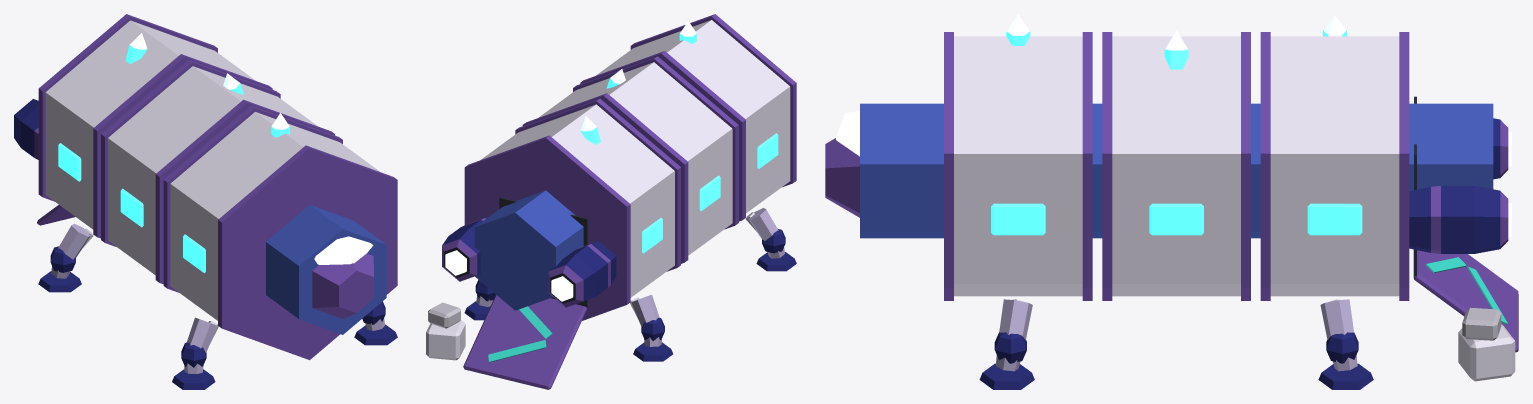
Rendered from pri-f_offen.glb.
3 renders of one model, left to right at view 1: azimuth 30°, elevation 25°; view 2: azimuth 150°, elevation 25°; view 3: azimuth 270°, elevation 25°, orthographic. The views are drawn at different scales.
Visible parts, largest first — view 1: frachtsegment_1, frachtsegment_2, frachtsegment_3, rückgrat, cockpit, landebein_2, landebein_4, triebwerk_r, landebein_1, kristallakzente, rampe; view 2: frachtsegment_3, frachtsegment_2, frachtsegment_1, rückgrat, rampe, triebwerk_r, ladung, triebwerk_l, landebein_4, landebein_2, kristallakzente, landebein_3 (+1 smaller); view 3: frachtsegment_3, frachtsegment_1, frachtsegment_2, rückgrat, triebwerk_l, rampe, ladung, landebein_1, landebein_3, cockpit, kristallakzente, triebwerk_r.
Part boxes in pixels (box(x1,y1,x2,y2)): frachtsegment_1: box(163, 105, 397, 360); frachtsegment_2: box(101, 60, 334, 284); frachtsegment_3: box(38, 14, 272, 238); rückgrat: box(266, 205, 386, 334); cockpit: box(312, 236, 373, 318); landebein_2: box(172, 317, 218, 389); landebein_4: box(38, 223, 93, 292); triebwerk_r: box(14, 99, 38, 159); landebein_1: box(354, 301, 397, 345); kristallakzente: box(125, 33, 289, 137); rampe: box(37, 205, 75, 225); frachtsegment_3: box(464, 98, 680, 320); frachtsegment_2: box(522, 56, 738, 263); frachtsegment_1: box(580, 14, 796, 221); rückgrat: box(474, 190, 583, 310); rampe: box(463, 295, 586, 389); triebwerk_r: box(548, 241, 616, 307); ladung: box(426, 302, 465, 360); triebwerk_l: box(442, 216, 488, 281); landebein_4: box(630, 294, 672, 361); landebein_2: box(746, 208, 796, 271); kristallakzente: box(580, 21, 696, 144); landebein_3: box(464, 280, 495, 320); frachtsegment_3: box(1260, 32, 1409, 300); frachtsegment_1: box(944, 32, 1092, 300); frachtsegment_2: box(1102, 32, 1250, 300); rückgrat: box(860, 103, 1493, 238); triebwerk_l: box(1409, 186, 1511, 253); rampe: box(1413, 250, 1518, 352); ladung: box(1458, 307, 1515, 381); landebein_1: box(979, 299, 1034, 389); landebein_3: box(1318, 299, 1373, 389); cockpit: box(825, 111, 859, 217); kristallakzente: box(1006, 14, 1346, 69); triebwerk_r: box(1493, 118, 1511, 179).
Size of the model in its own units: 0.0796 by 0.0866 by 0.1751.
